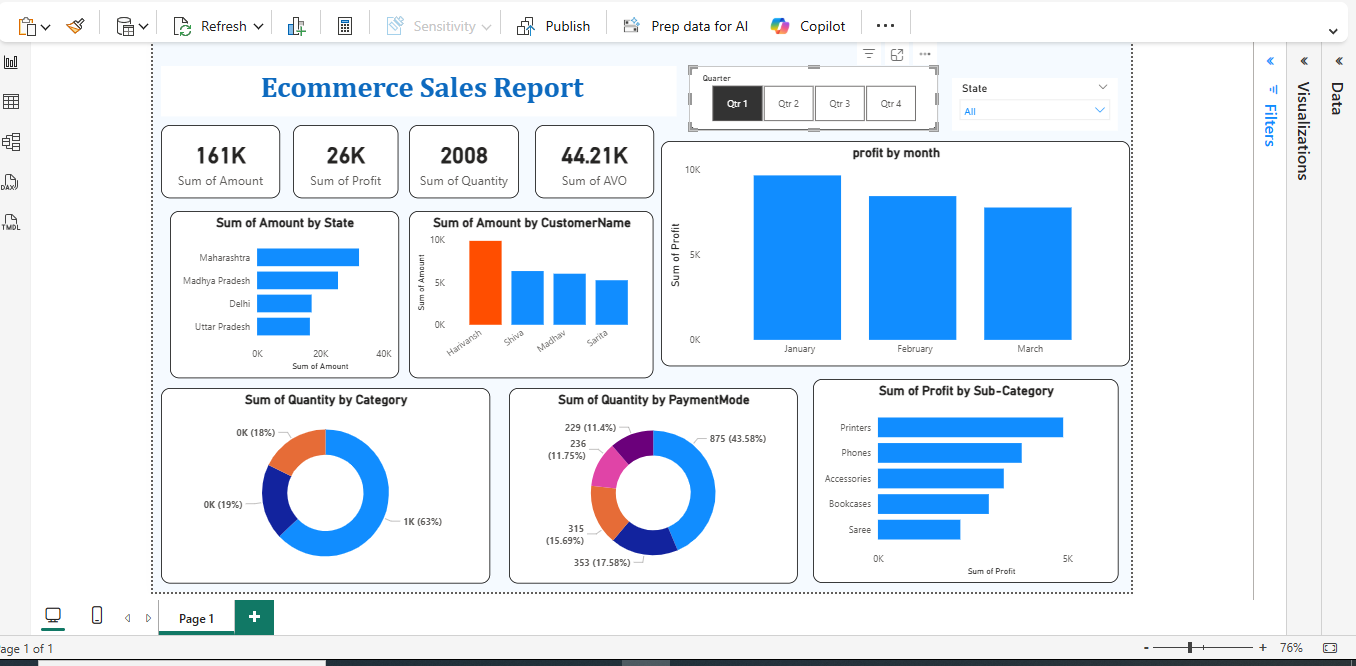

What the dashboard file says about the page in this screenshot:
{"tool":"powerbi","page":{"name":"ESD","canvas":[1280,720],"ordinal":0},"visuals":[{"type":"textbox","box":[10.1,31.9,675.3,65.5],"z":0},{"type":"columnChart","title":"profit by month","fields":{"Category":["Orders.Order Date.Variation.Date Hierarchy.Month"],"Y":["Sum(Details.Profit)"]},"box":[665.6,129.3,614.2,295.3],"z":1000},{"type":"clusteredBarChart","fields":{"Category":["Details.Sub-Category"],"Y":["Sum(Details.Profit)"]},"box":[864,440.8,399.7,267.4],"z":2000},{"type":"donutChart","fields":{"Category":["Details.Category"],"Y":["Sum(Details.Quantity)"]},"box":[10.3,452.6,430.5,255.7],"z":3000},{"type":"donutChart","fields":{"Y":["Sum(Details.Quantity)"],"Category":["Details.PaymentMode"]},"box":[465.8,452.6,377.6,255.7],"z":4000},{"type":"card","fields":{"Values":["Sum(Details.Amount)"]},"box":[10.3,108.7,155.8,95.5],"z":5000},{"type":"card","fields":{"Values":["Sum(Details.Quantity)"]},"box":[335,108.7,144,95.5],"z":6000},{"type":"card","fields":{"Values":["Sum(Details.Profit)"]},"box":[183.7,108.7,138.1,95.5],"z":7000},{"type":"card","fields":{"Values":["Sum(Details.AVO)"]},"box":[499.6,108.7,155.8,95.5],"z":8000},{"type":"clusteredBarChart","fields":{"Category":["Orders.State"],"Y":["Sum(Details.Amount)"]},"box":[22,221.9,299.8,218.9],"z":9000},{"type":"columnChart","fields":{"Category":["Orders.CustomerName"],"Y":["Sum(Details.Amount)"]},"box":[335,221.9,320.3,218.9],"z":10000},{"type":"slicer","fields":{"Values":["Orders.State"]},"box":[1046.5,47,216.7,68.9],"z":11000},{"type":"slicer","fields":{"Values":["Orders.Order Date.Variation.Date Hierarchy.Quarter"]},"box":[702.2,31.9,325.9,84],"z":12000}]}

Visuals, with their boxes on the page's 1280x720 design canvas (x1, y1, x2, y2). These are canvas units, not pixel positions in the 1356x666 screenshot, which may show the page scaled, cropped or inside an application window:
textbox: [left=10, top=32, right=685, bottom=97]
"profit by month" columnChart: [left=666, top=129, right=1280, bottom=425]
clusteredBarChart - Details.Sub-Category x Sum(Details.Profit): [left=864, top=441, right=1264, bottom=708]
donutChart - Details.Category x Sum(Details.Quantity): [left=10, top=453, right=441, bottom=708]
donutChart - Sum(Details.Quantity) x Details.PaymentMode: [left=466, top=453, right=843, bottom=708]
card - Sum(Details.Amount): [left=10, top=109, right=166, bottom=204]
card - Sum(Details.Quantity): [left=335, top=109, right=479, bottom=204]
card - Sum(Details.Profit): [left=184, top=109, right=322, bottom=204]
card - Sum(Details.AVO): [left=500, top=109, right=655, bottom=204]
clusteredBarChart - Orders.State x Sum(Details.Amount): [left=22, top=222, right=322, bottom=441]
columnChart - Orders.CustomerName x Sum(Details.Amount): [left=335, top=222, right=655, bottom=441]
slicer - Orders.State: [left=1046, top=47, right=1263, bottom=116]
slicer - Orders.Order Date.Variation.Date Hierarchy.Quarter: [left=702, top=32, right=1028, bottom=116]
